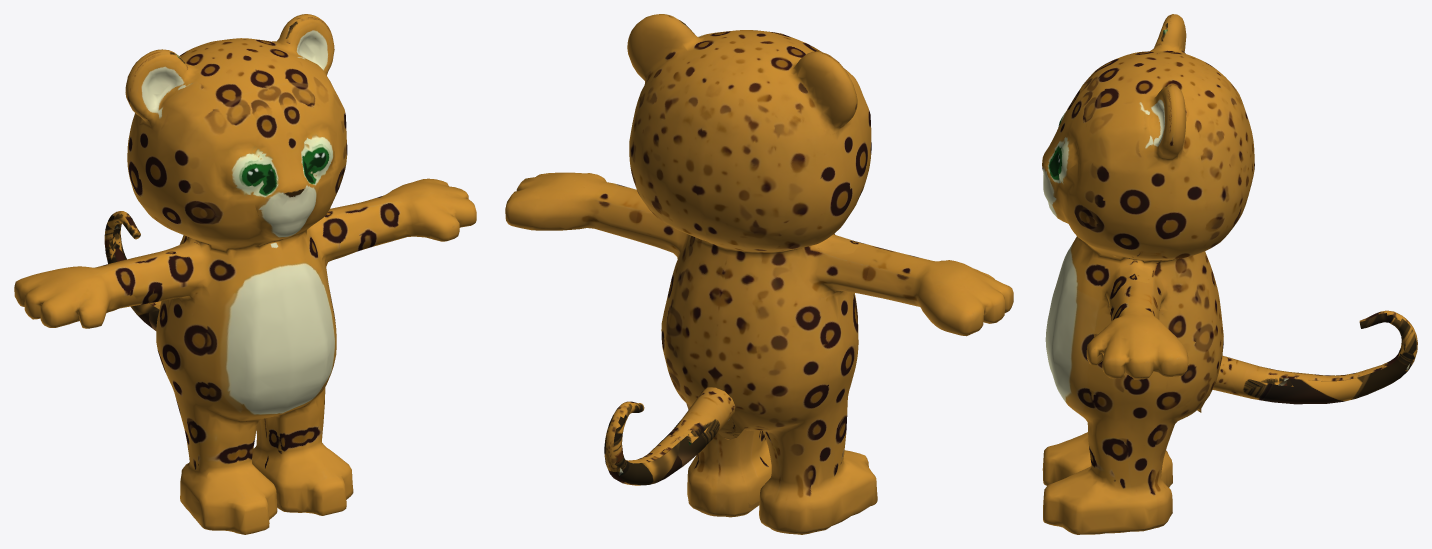
File: leopard_tpose.glb
The picture shows the model from 3 angles, left to right: view 1: azimuth 30°, elevation 25°; view 2: azimuth 150°, elevation 25°; view 3: azimuth 270°, elevation 25°; orthographic projection. The views are drawn at different scales.
Visible parts, largest first — view 1: leopard_tpose_baked; view 2: leopard_tpose_baked; view 3: leopard_tpose_baked.
Boxes of the visible parts, bbox=[...] form: leopard_tpose_baked: bbox=[14, 14, 476, 534]; leopard_tpose_baked: bbox=[505, 14, 1013, 534]; leopard_tpose_baked: bbox=[1042, 14, 1417, 534].
Size of the model in its own units: 1.38 by 1.35 by 1.02.
Materials: 1 (1 with a texture image).
